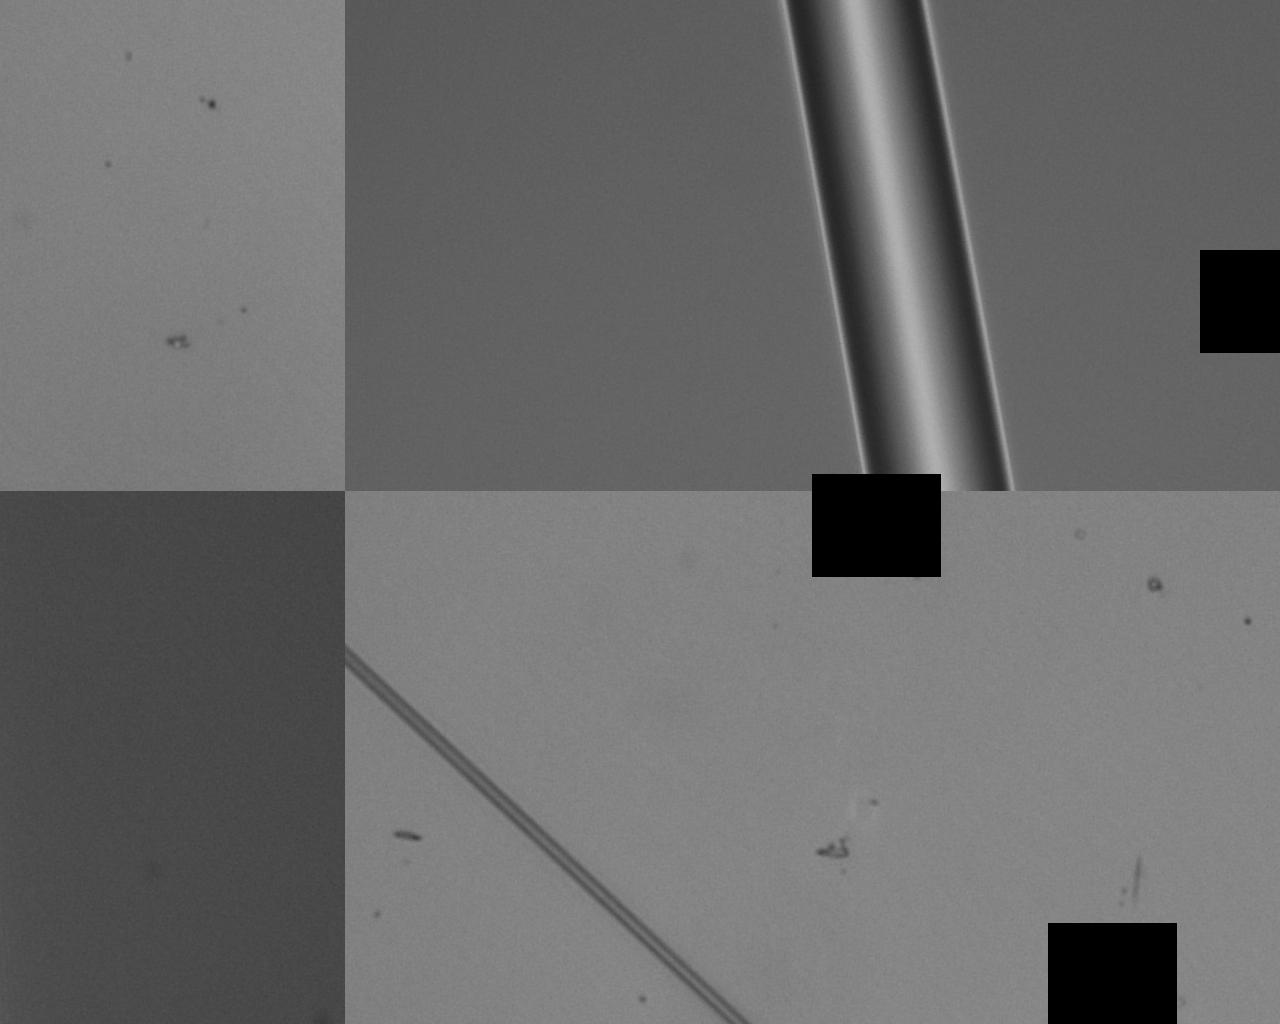fiber: (486, 563, 1138, 830), (124, 0, 486, 233), (1073, 0, 1110, 563)
